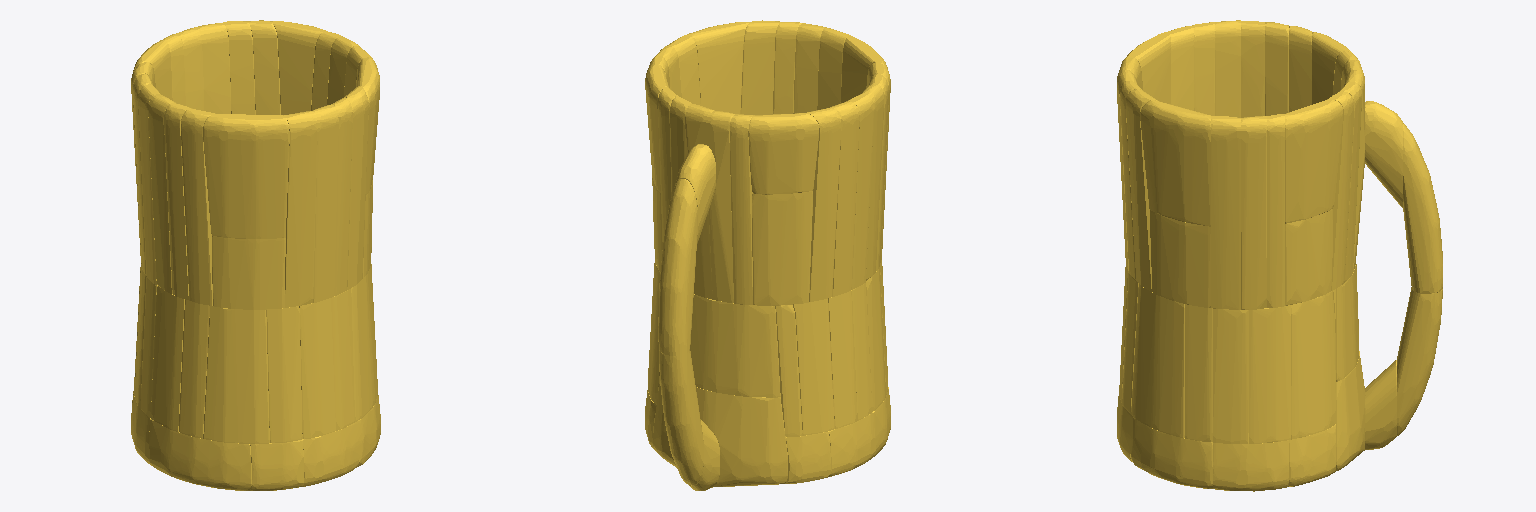
The robot description file, URDF, robot "934.urdf":
<?xml version="1.0" ?>
<robot name="934.urdf">
	<link name="baseLink">
		<inertial>
			<origin rpy="0 0 0" xyz="0 0 0"/>
				<mass value="0.1"/>
				<inertia ixx="6e-5" ixy="0" ixz="0" iyy="6e-5" iyz="0" izz="6e-5"/>
		</inertial>
		<visual>
			<origin rpy="0 0 0" xyz="0 0 0"/>
			<geometry>
				<mesh filename="13_decom_wt.obj" scale="0.84 0.84 1.01"/>
			</geometry>
			<material name="yellow">
				<color rgba="0.98 0.84 0.35 1"/>
			</material>
		</visual>
		<collision>
			<origin rpy="0 0 0" xyz="0 0 0"/>
			<geometry>
				<mesh filename="13_decom_wt.obj" scale="0.84 0.84 1.01"/>
			</geometry>
		</collision>
	</link>
</robot>

--- What the picture shows (computed from the rendered views, not written in the file) ---
3 views of the same robot in one strip: view 1: azimuth 30°, elevation 25°; view 2: azimuth 150°, elevation 25°; view 3: azimuth 270°, elevation 25° (orthographic).
Model 934.urdf with 1 links and 0 joints (none), rooted at baseLink, posed every joint at zero.
Visible links, largest first — view 1: baseLink; view 2: baseLink; view 3: baseLink.
Boxes of the visible links, bbox=[...] form: baseLink: bbox=[131, 20, 380, 490]; baseLink: bbox=[645, 20, 890, 490]; baseLink: bbox=[1117, 20, 1442, 491].
Size in the robot's own frame: 0.0753 by 0.0988 by 0.1264 metres.
Meshes: 1 distinct files referenced, 1 mesh visuals loaded (1 OBJ).